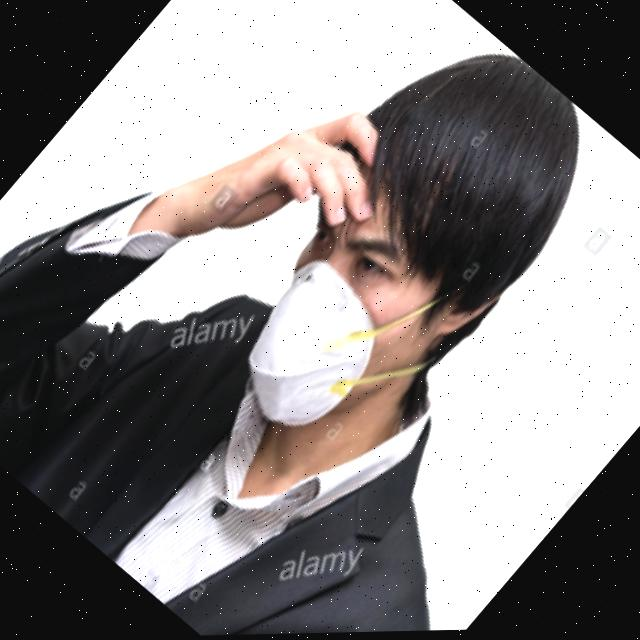Mask: (194, 150, 522, 492)
